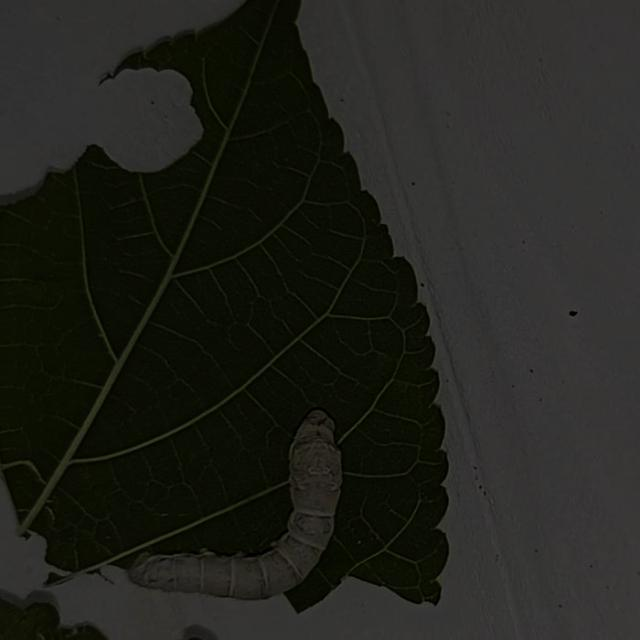Healthy: (110, 370, 399, 632)
